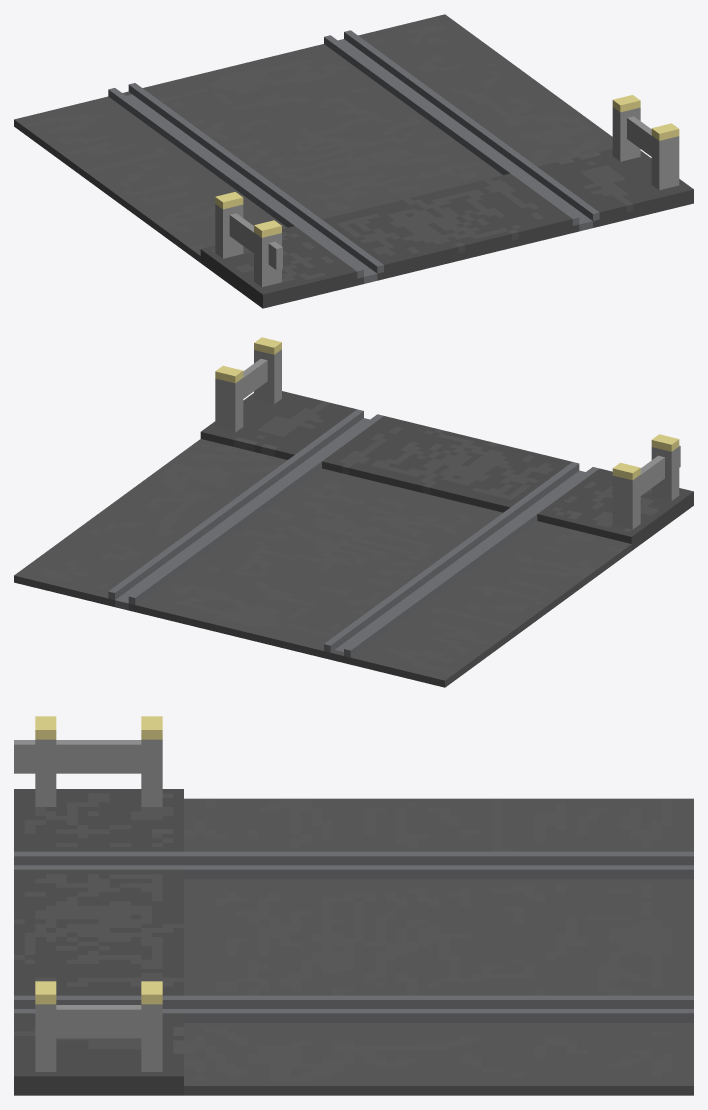
The model's file is Tutorialmap_V2_unfinished-40.obj.
The picture shows the model from 3 angles, top to bottom: view 1: azimuth 30°, elevation 25°; view 2: azimuth 150°, elevation 25°; view 3: azimuth 270°, elevation 25°; orthographic projection. The views are drawn at different scales.
Size of the model in its own units: 6.4 by 1 by 6.4.
1 material, 1 textured.
